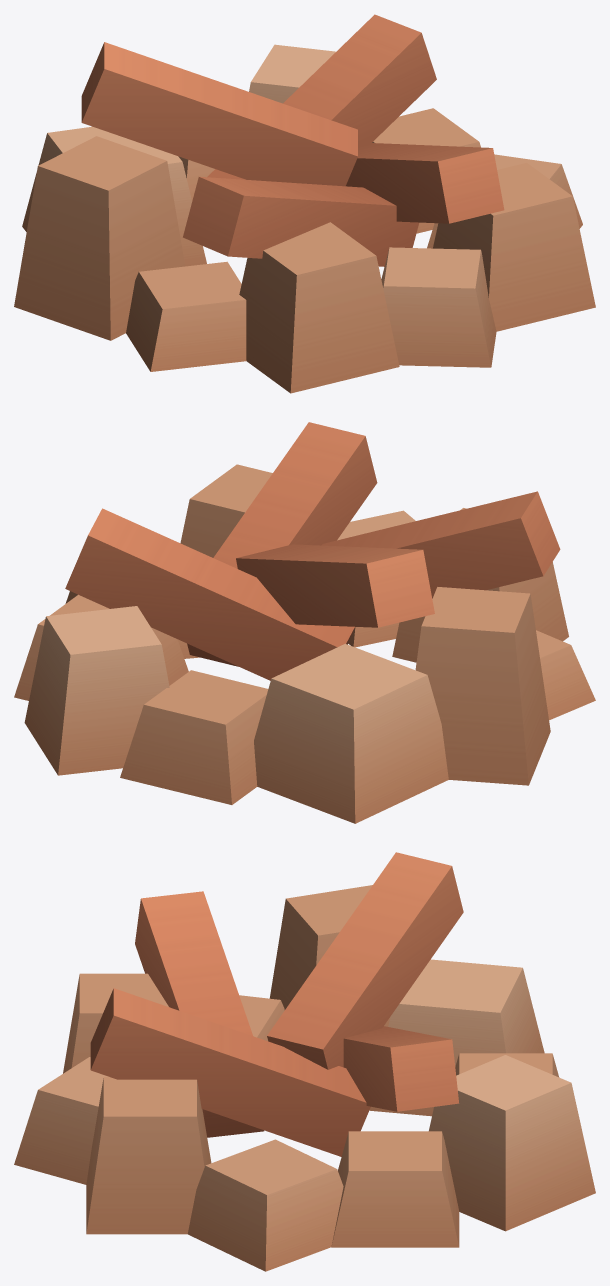
The model's file is campfire-pit.obj.
3 views of the same model, one above another, from view 1: azimuth 30°, elevation 25°; view 2: azimuth 150°, elevation 25°; view 3: azimuth 270°, elevation 25° (orthographic). The views are drawn at different scales.
Visible parts, largest first — view 1: campfire-pit, wood; view 2: campfire-pit, wood; view 3: campfire-pit, wood.
Boxes of the visible parts, x1=… form: campfire-pit: x1=14, y1=44, x2=595, y2=393; wood: x1=81, y1=14, x2=504, y2=266; campfire-pit: x1=14, y1=464, x2=595, y2=823; wood: x1=65, y1=422, x2=560, y2=680; campfire-pit: x1=14, y1=885, x2=595, y2=1271; wood: x1=90, y1=852, x2=463, y2=1156.
Size of the model in its own units: 0.2778 by 0.1091 by 0.2692.
1 material, 1 textured.
